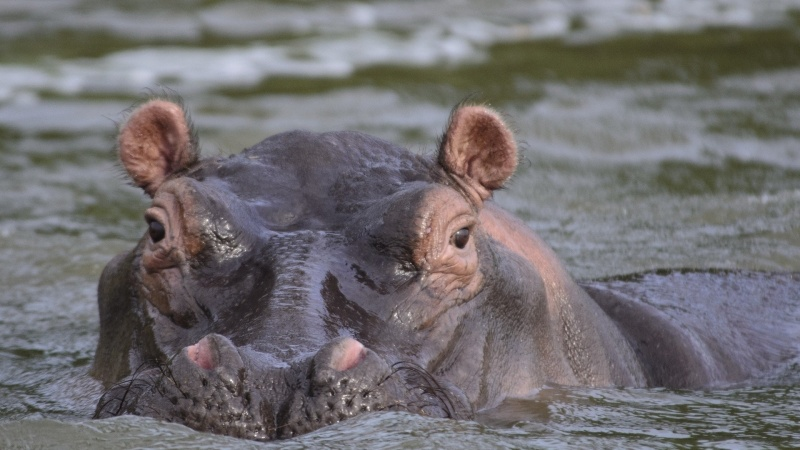hipopotamo: (74, 80, 682, 437)
